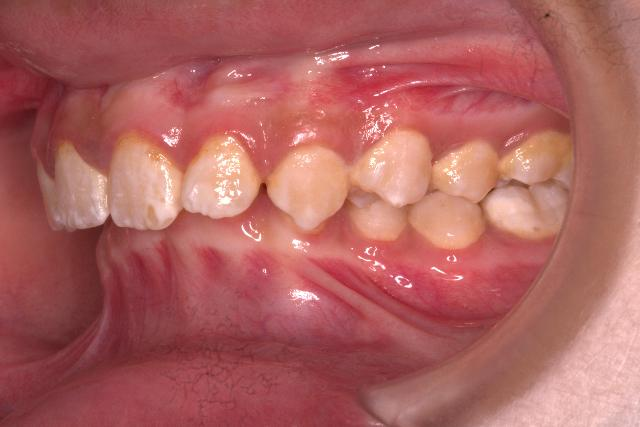molar class I: (484, 126, 578, 246)
